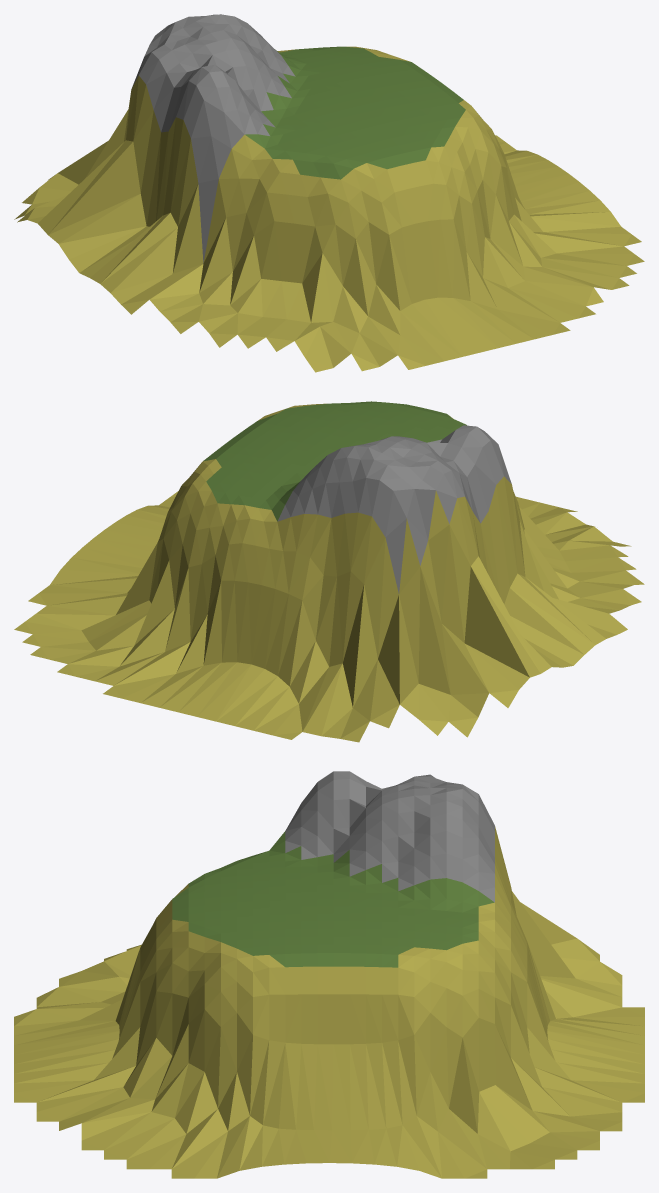
File: island.fbx
The picture shows the model from 3 angles, top to bottom: view 1: azimuth 30°, elevation 25°; view 2: azimuth 150°, elevation 25°; view 3: azimuth 270°, elevation 25°; orthographic projection. The views are drawn at different scales.
Visible parts, largest first — view 1: Plane; view 2: Plane; view 3: Plane.
Boxes of the visible parts, bbox=[...] form: Plane: bbox=[14, 14, 644, 372]; Plane: bbox=[14, 401, 644, 742]; Plane: bbox=[14, 771, 644, 1178].
Bounding box in the file's own units: 14068 × 6112 × 15150.
